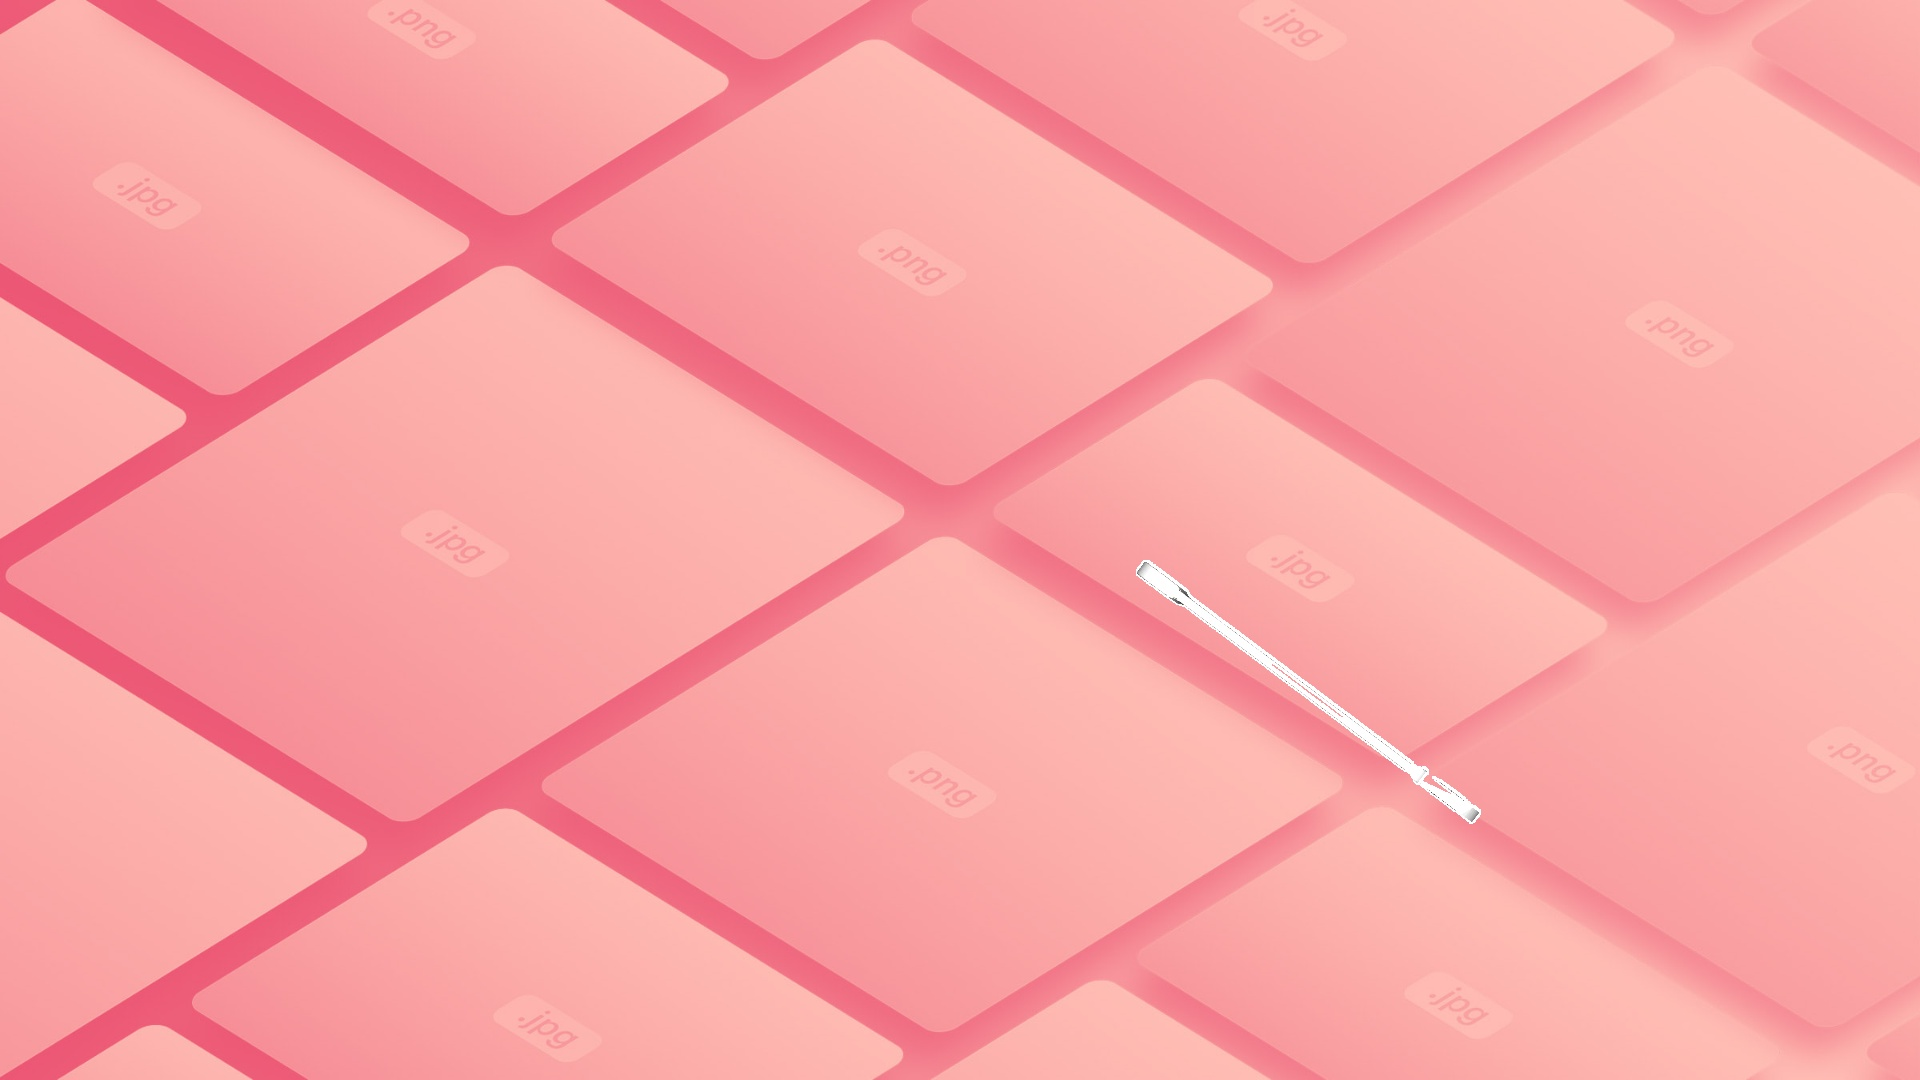Mixed Key: (1135, 560, 1480, 823)
